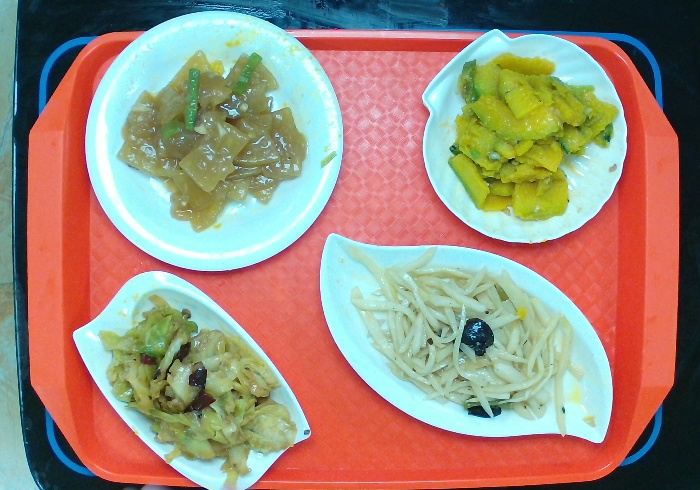RJxy-Bei_Ke_Wan: (419, 23, 627, 246)
RJxy-Jian_Jiao_Fang_Die: (71, 269, 316, 490)
RJxy-Jian_Jiao_Pan: (320, 228, 614, 453)
RJxy-Yuan_Pan: (84, 10, 342, 274)
